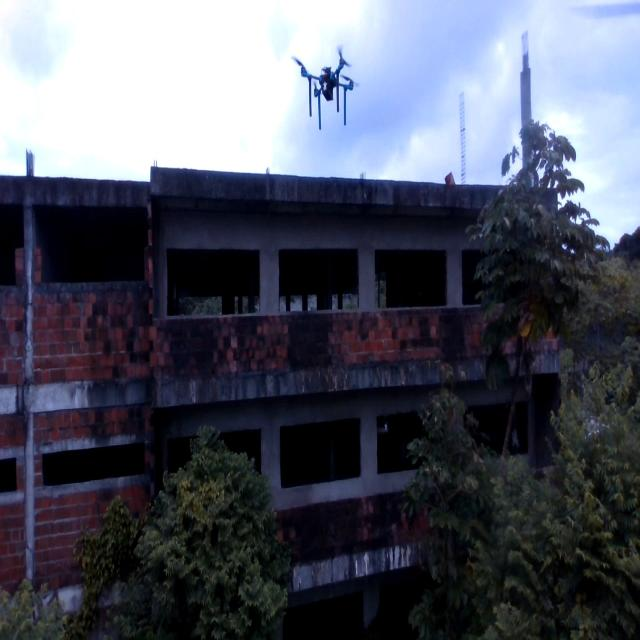-uav-: (286, 34, 366, 135)
